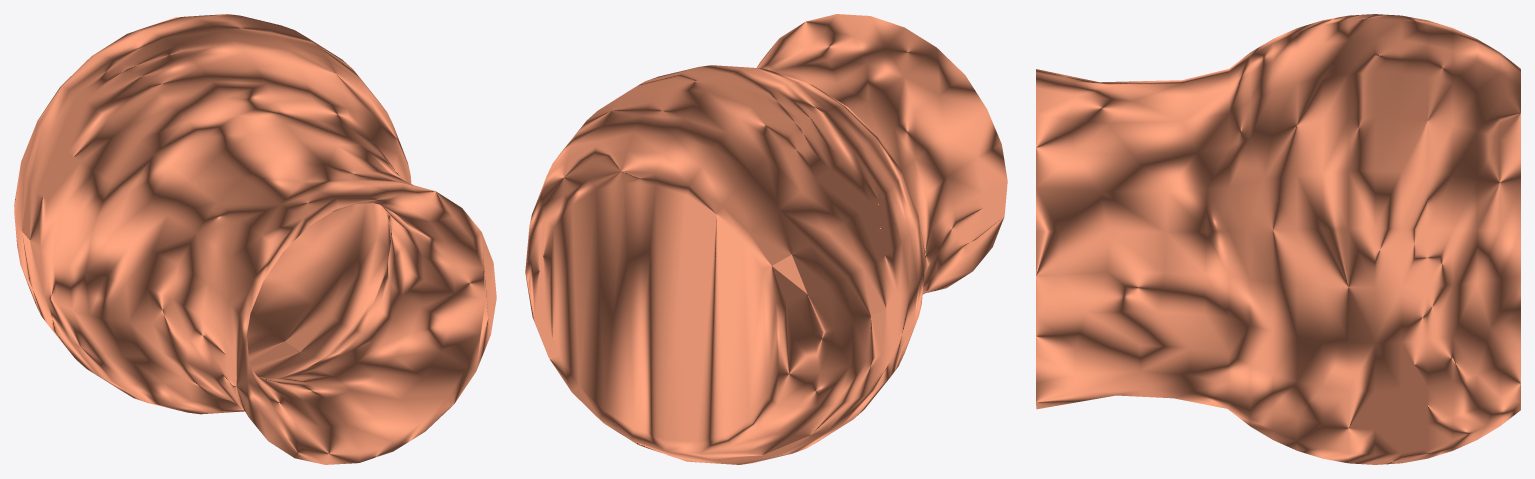
File: model_align.obj
The picture shows the model from 3 angles, left to right: view 1: azimuth 30°, elevation 25°; view 2: azimuth 150°, elevation 25°; view 3: azimuth 270°, elevation 25°; orthographic projection. The views are drawn at different scales.
Bounding box in the file's own units: 0.1671 × 0.1671 × 0.1796.
